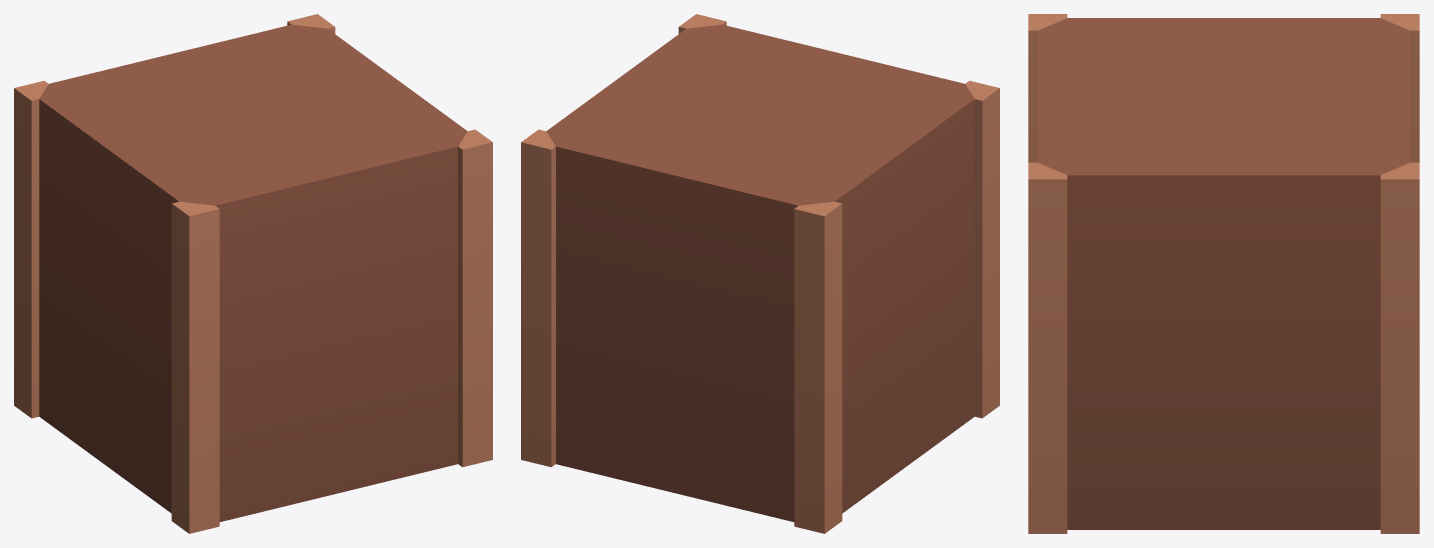
File: wall-wood-block.glb
3 views of the same model, side by side, from view 1: azimuth 30°, elevation 25°; view 2: azimuth 150°, elevation 25°; view 3: azimuth 270°, elevation 25° (orthographic). The views are drawn at different scales.
Parts seen in each view (by area): view 1: wall-wood-block; view 2: wall-wood-block; view 3: wall-wood-block.
Part boxes in pixels (box(x1,y1,x2,y2)): wall-wood-block: box(14, 14, 492, 533); wall-wood-block: box(521, 14, 999, 533); wall-wood-block: box(1028, 14, 1419, 533).
Size of the model in its own units: 1 by 1 by 1.
1 material, 1 textured.
